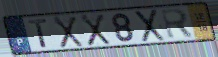8: (111, 12, 136, 44)
R: (159, 7, 196, 41)
T: (27, 18, 50, 49)
X: (134, 8, 167, 44), (51, 15, 84, 49), (79, 13, 112, 47)
